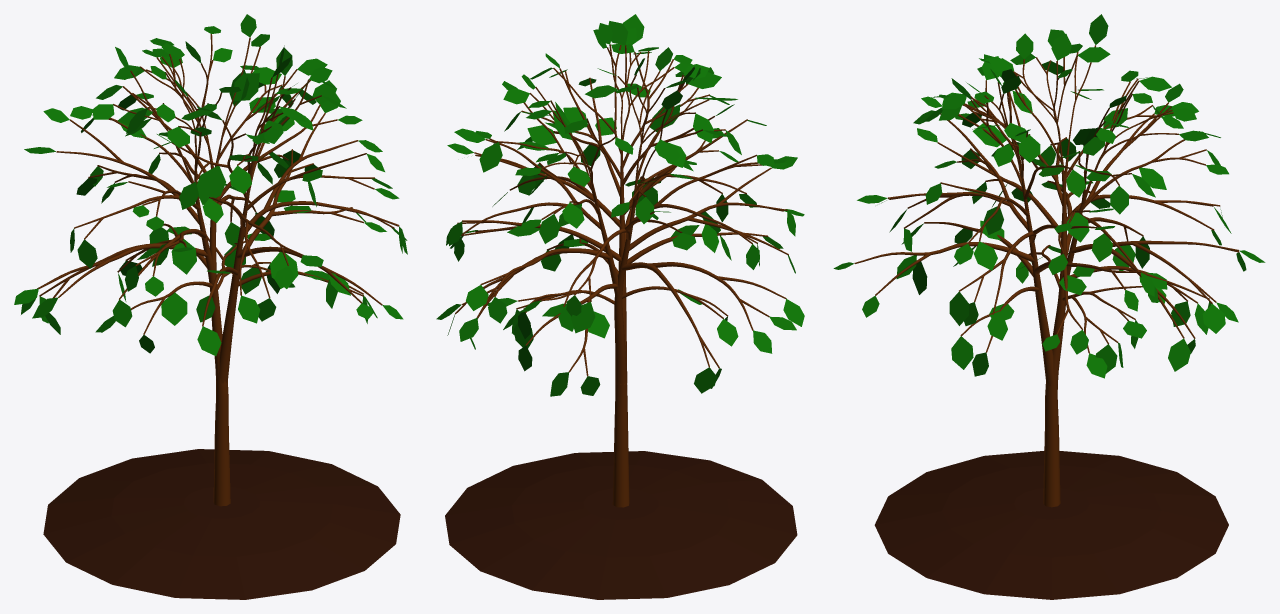
The model's file is TreeStage2.glb.
3 renders of one model, left to right at view 1: azimuth 30°, elevation 25°; view 2: azimuth 150°, elevation 25°; view 3: azimuth 270°, elevation 25°, orthographic.
Visible parts, largest first — view 1: Cone, leaves.003, tree; view 2: Cone, leaves.003, tree; view 3: Cone, leaves.003, tree.
Boxes of the visible parts, x1=… form: Cone: x1=43, y1=449, x2=400, y2=599; leaves.003: x1=14, y1=14, x2=407, y2=355; tree: x1=37, y1=34, x2=399, y2=506; Cone: x1=445, y1=451, x2=797, y2=599; leaves.003: x1=436, y1=14, x2=804, y2=396; tree: x1=455, y1=44, x2=788, y2=507; Cone: x1=874, y1=451, x2=1228, y2=599; leaves.003: x1=833, y1=14, x2=1265, y2=378; tree: x1=854, y1=45, x2=1239, y2=507.
Bounding box in the file's own units: 1.06 × 1.39 × 1.14.
